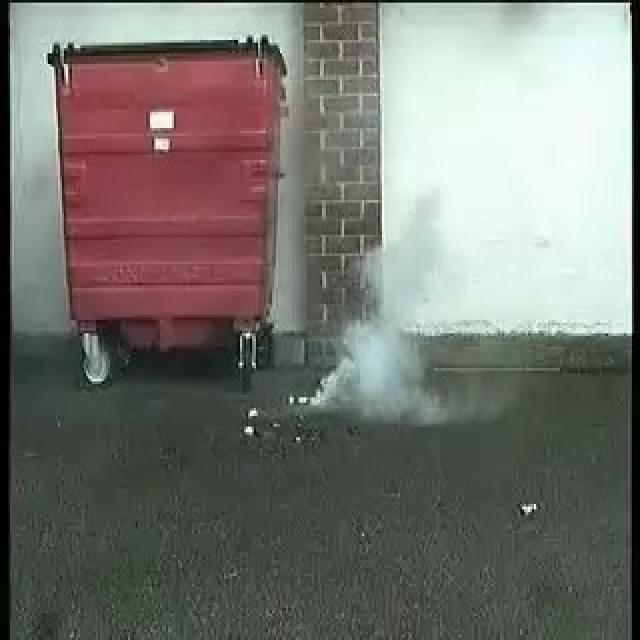smoke: (315, 244, 430, 411)
